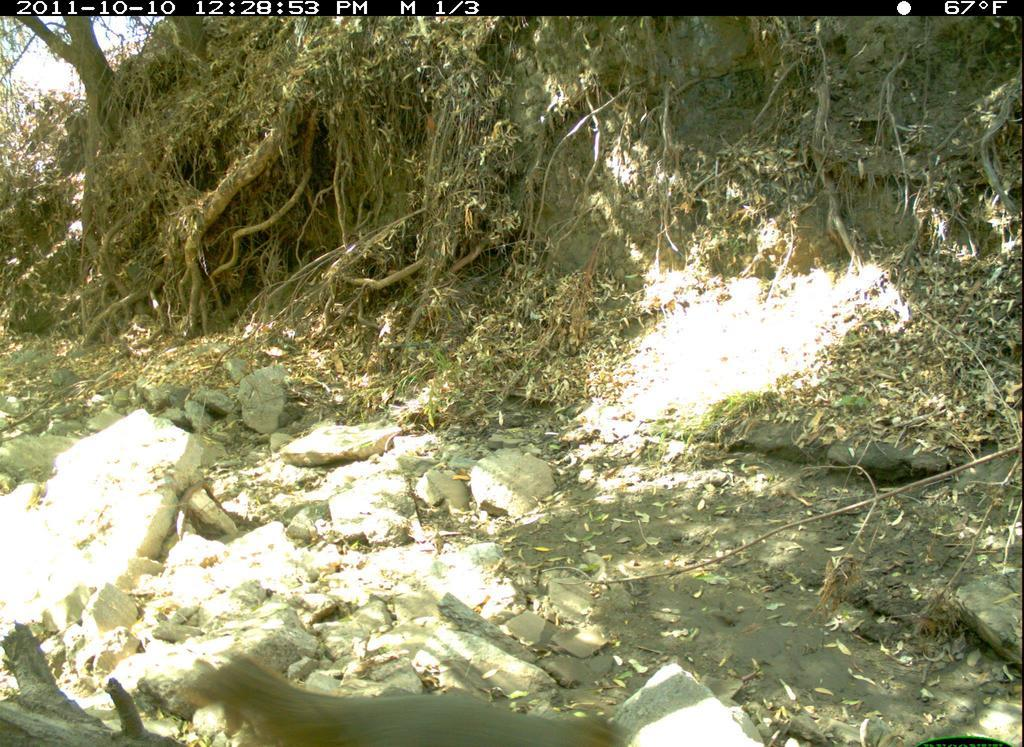squirrel: (166, 646, 655, 747)
